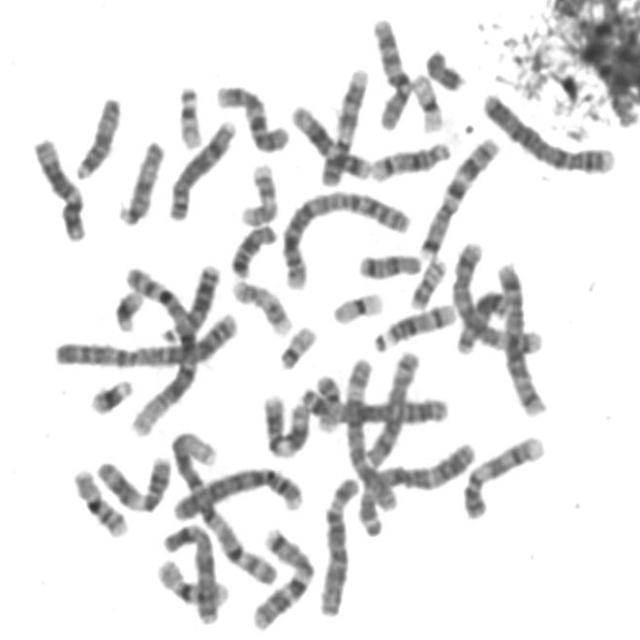A1: (164, 423, 284, 589), (120, 256, 204, 439)
A2: (274, 180, 415, 291), (47, 305, 243, 372)
A3: (352, 434, 479, 539), (311, 390, 453, 437)
B4: (477, 85, 619, 176), (167, 458, 307, 523)
B5: (447, 233, 546, 357), (492, 255, 551, 418)
C10: (210, 76, 293, 155), (367, 9, 415, 132)
C11: (92, 448, 174, 514), (256, 388, 314, 460)
C12: (284, 96, 374, 182), (28, 130, 90, 244)
C6: (339, 350, 401, 514), (313, 469, 363, 620)
C7: (414, 129, 504, 260), (246, 521, 318, 632)
C8: (164, 112, 240, 222), (360, 342, 424, 471)
C9: (457, 428, 548, 522), (316, 60, 372, 188)
D13: (155, 256, 223, 346), (451, 289, 519, 357)
D14: (368, 294, 459, 354), (366, 132, 455, 183)
D15: (112, 133, 168, 228), (70, 89, 124, 182)
E16: (66, 461, 132, 539), (151, 552, 232, 610)
E17: (227, 272, 296, 336), (235, 156, 282, 228)
E18: (224, 217, 280, 279), (353, 245, 424, 281)
F19: (407, 66, 447, 134), (328, 284, 388, 326)
F20: (405, 249, 450, 310), (311, 367, 344, 434)
G21: (83, 372, 137, 416), (110, 281, 148, 334)
G22: (172, 77, 206, 152), (274, 318, 320, 370)
X: (156, 515, 224, 626)
Y: (420, 41, 469, 92)
